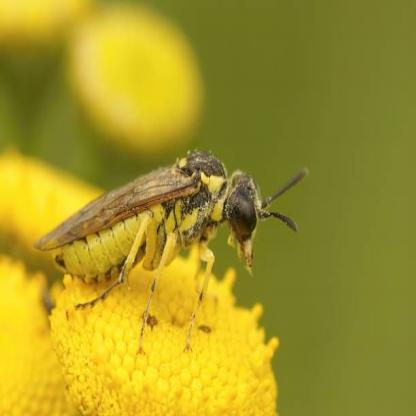sawfly: (32, 150, 310, 362)
